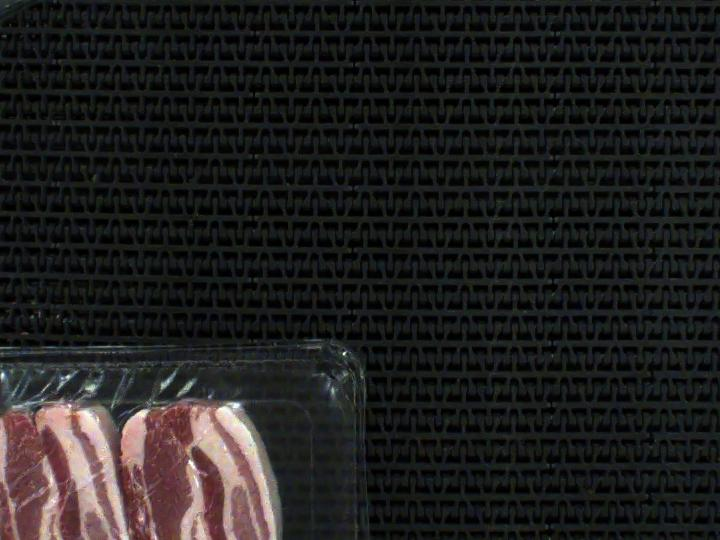unsealed: (0, 356, 321, 540)
